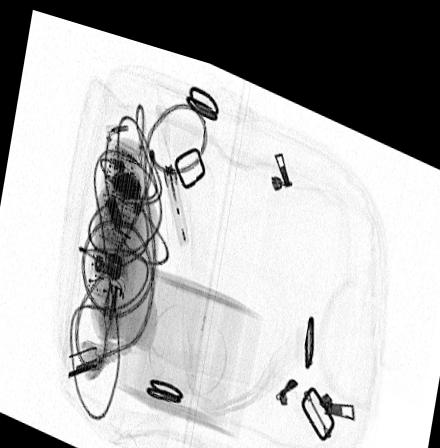Lighter: (161, 150, 188, 234)
